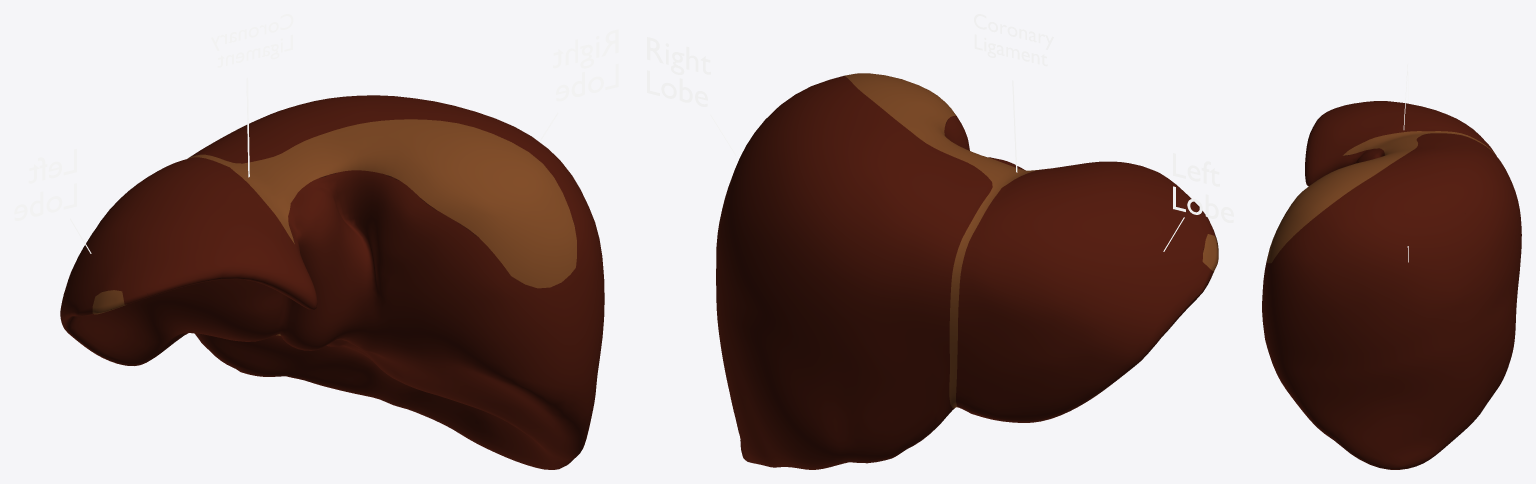
File: Liver12.gltf
3 views of the same model, side by side, from view 1: azimuth 30°, elevation 25°; view 2: azimuth 150°, elevation 25°; view 3: azimuth 270°, elevation 25° (orthographic). The views are drawn at different scales.
Parts seen in each view (by area): view 1: Liver, Text, Text.001, Text.002; view 2: Liver, Text, Text.001, Text.002; view 3: Liver.
Boxes of the visible parts, bbox=[...] form: Liver: bbox=[60, 95, 604, 469]; Text: bbox=[553, 29, 618, 101]; Text.001: bbox=[14, 149, 76, 220]; Text.002: bbox=[211, 14, 293, 67]; Liver: bbox=[716, 73, 1218, 469]; Text: bbox=[647, 37, 710, 106]; Text.001: bbox=[1173, 153, 1233, 222]; Text.002: bbox=[974, 14, 1053, 66]; Liver: bbox=[1262, 101, 1521, 469].
Bounding box in the file's own units: 0.3403 × 0.2728 × 0.1821.
Materials: 3 (1 with a texture image).
